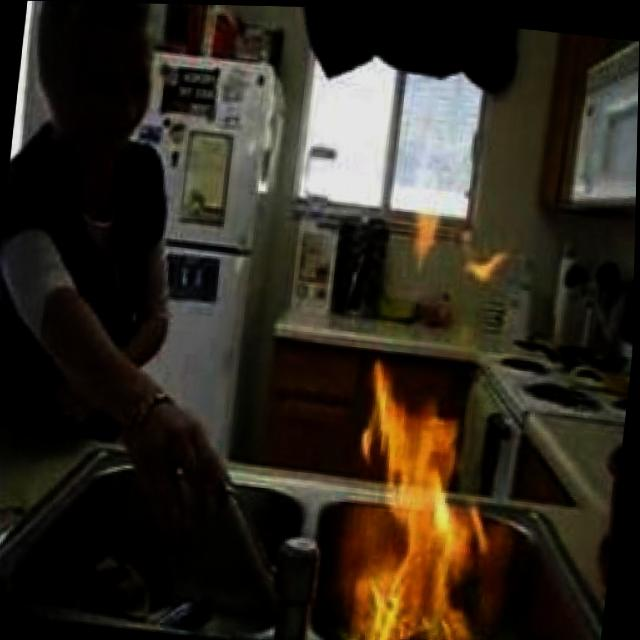Fire: (329, 351, 511, 640), (392, 199, 520, 294)
